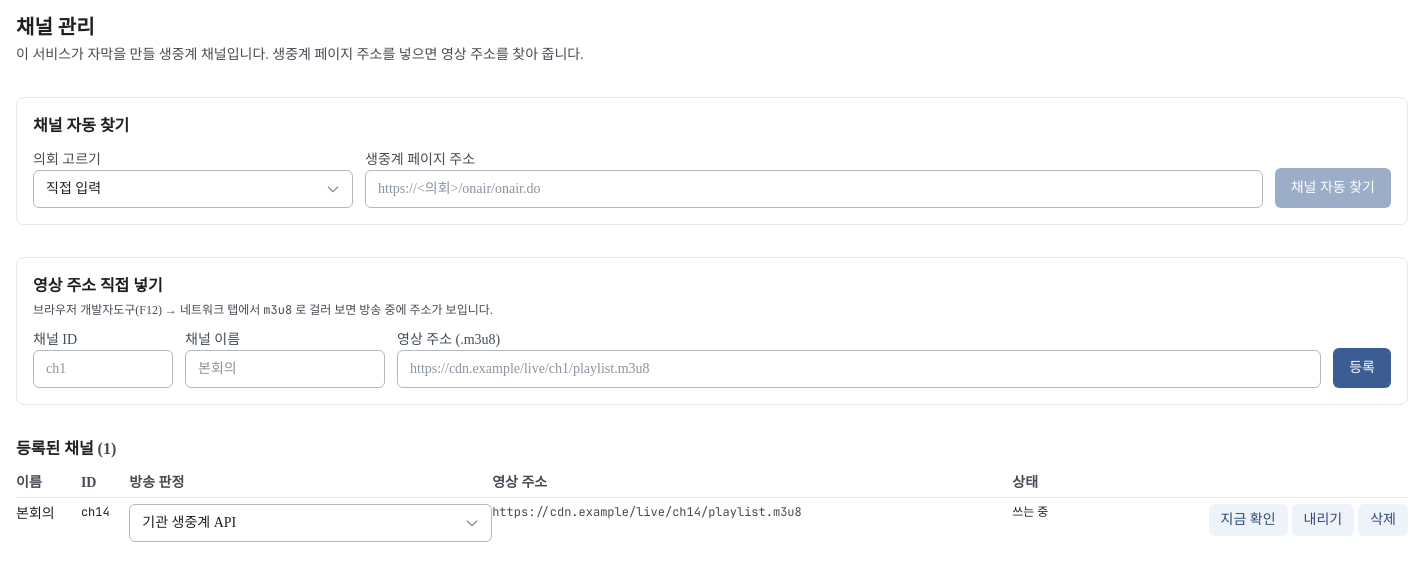
Scenario: 의회를 고르면 생중계 페이지 주소가 채워진다
expect the text "본회의" is shown: met, box [16,498,81,548]
Select "경기도의회" in the dropdown labelled "의회 고르기": (193, 189) [33,170,353,208]
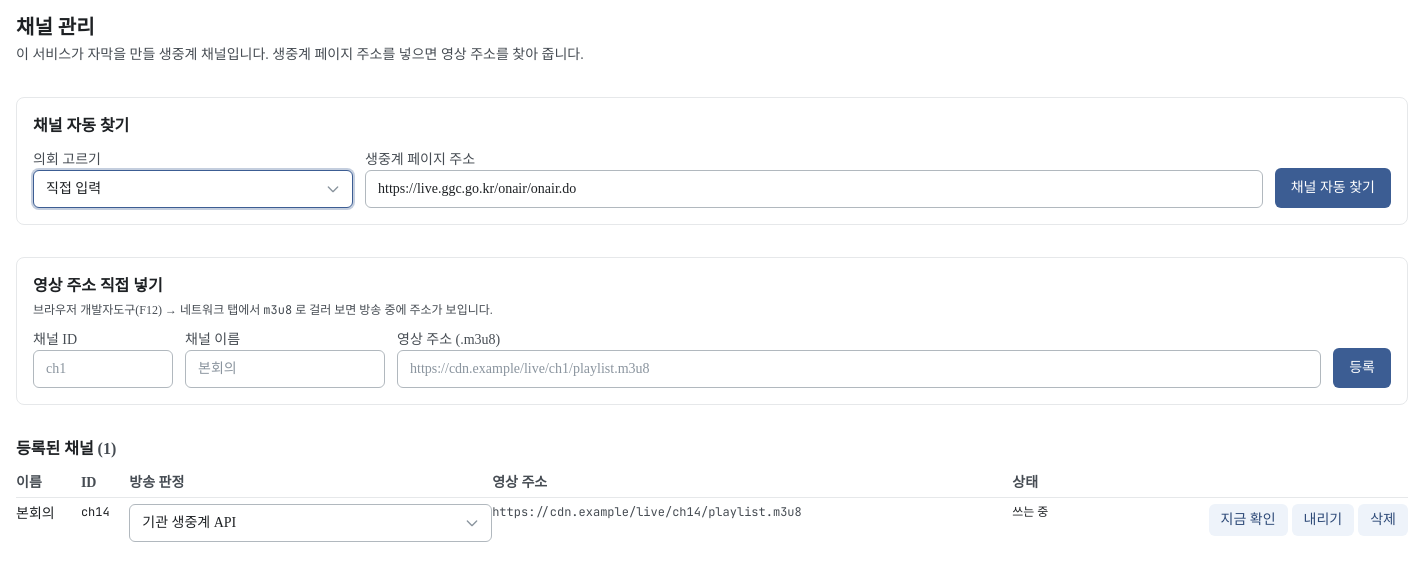
expect the field showing "https://live.ggc.go.kr/onair/onair.do" is shown: met, box [365,170,1263,208]
